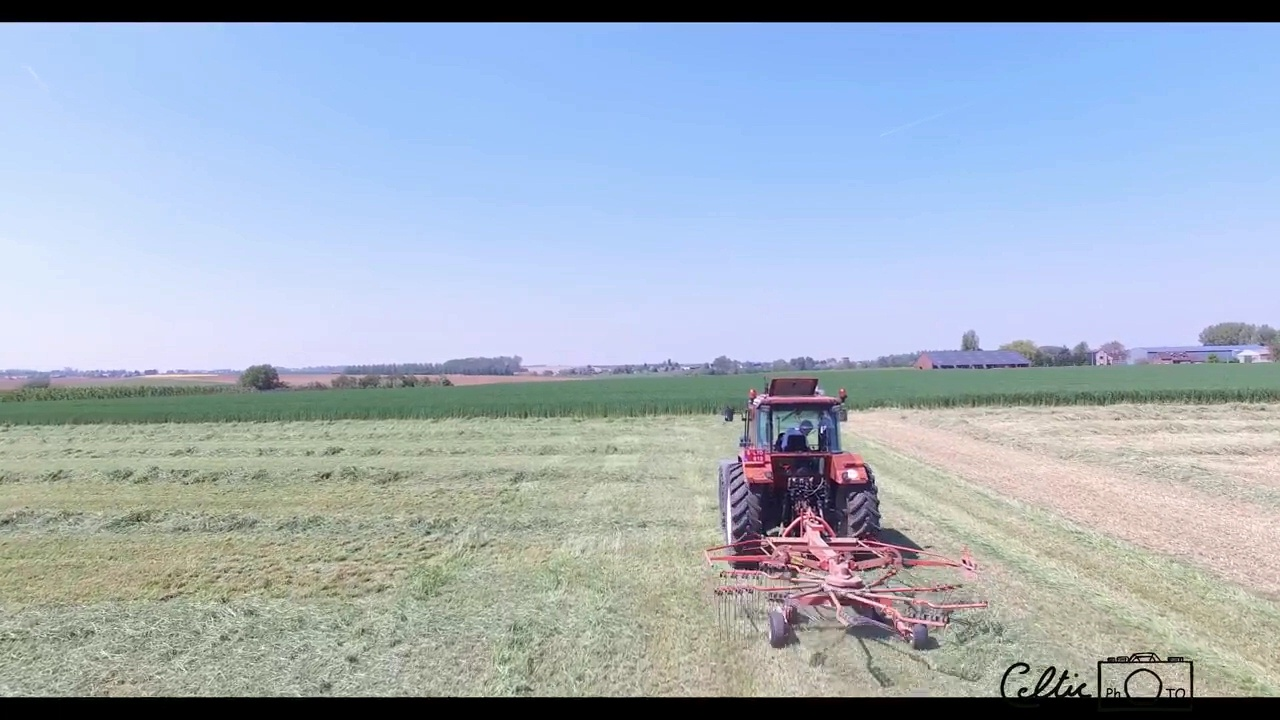traktor: (714, 374, 882, 560)
